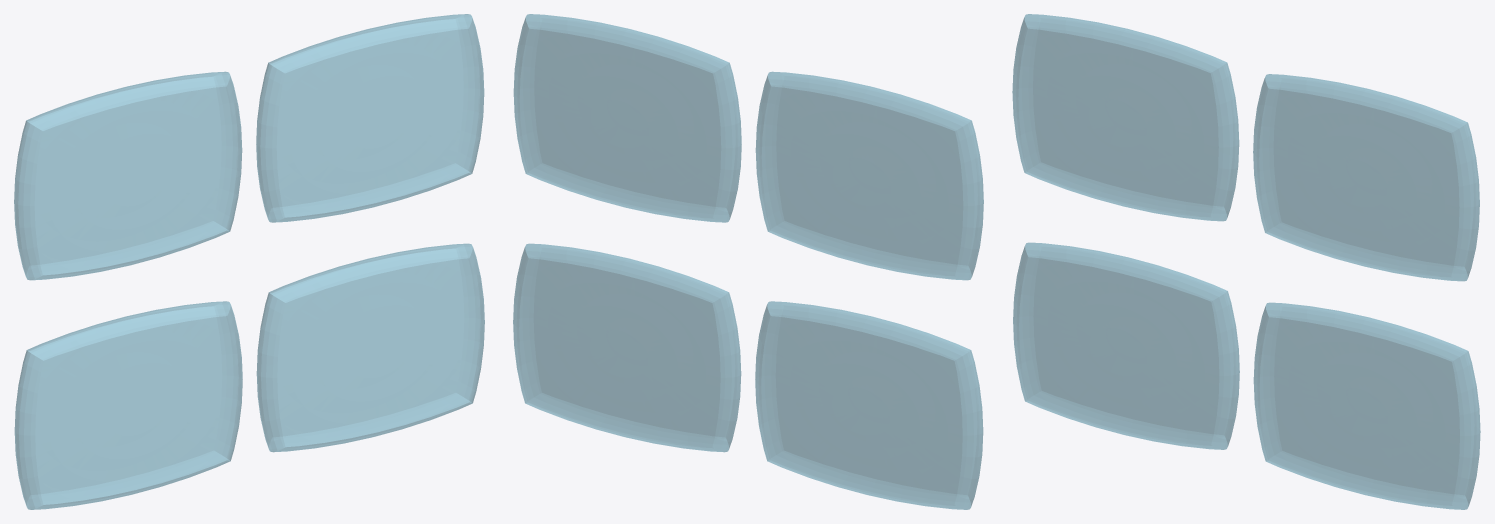
Rendered from tinker.obj.
3 views of the same model, side by side, from view 1: azimuth 30°, elevation 25°; view 2: azimuth 150°, elevation 25°; view 3: azimuth 330°, elevation 25° (orthographic).
Parts seen in each view (by area): view 1: obj_0, obj_2, obj_1, obj_3; view 2: obj_0, obj_2, obj_1, obj_3; view 3: obj_0, obj_2, obj_1, obj_3.
Part boxes in pixels (<box>): obj_0: <box>14,301,242,509</box>; obj_2: <box>256,14,484,222</box>; obj_1: <box>14,71,242,280</box>; obj_3: <box>256,243,484,452</box>; obj_0: <box>755,301,983,509</box>; obj_2: <box>513,14,741,222</box>; obj_1: <box>755,71,983,280</box>; obj_3: <box>513,243,741,452</box>; obj_0: <box>1013,242,1239,449</box>; obj_2: <box>1253,74,1479,281</box>; obj_1: <box>1012,14,1239,221</box>; obj_3: <box>1253,302,1480,509</box>.
Bounding box in the file's own units: 18.68 × 15.55 × 1.12.
